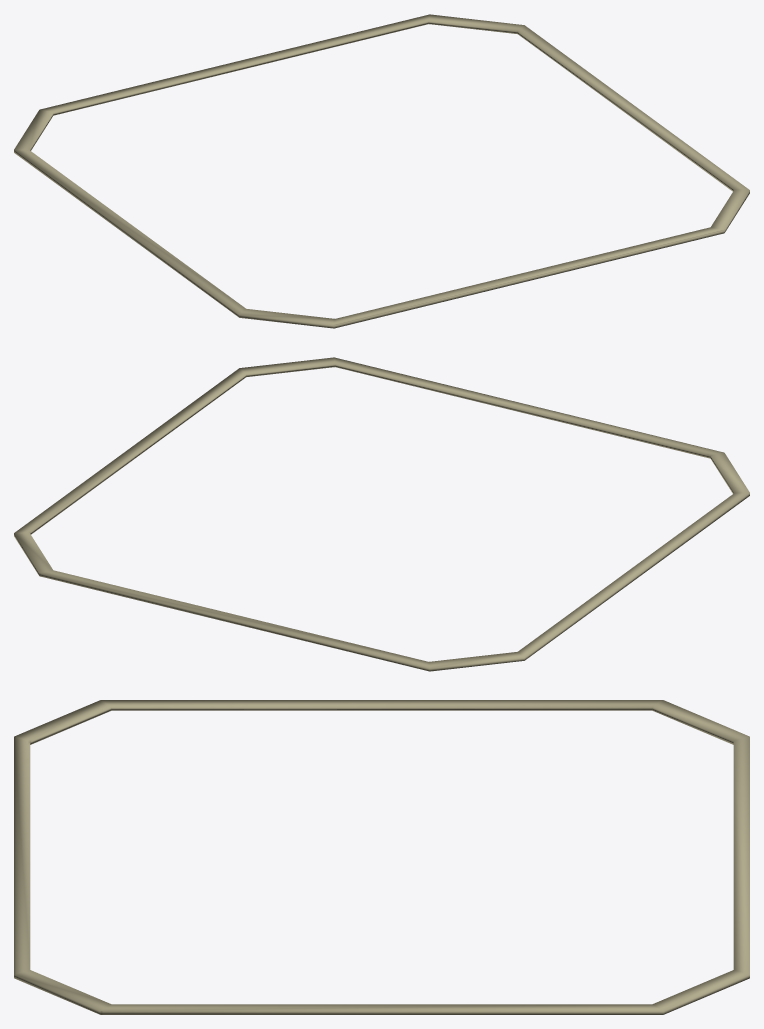
File: SM_BenchSlot.glb
The picture shows the model from 3 angles, top to bottom: view 1: azimuth 30°, elevation 25°; view 2: azimuth 150°, elevation 25°; view 3: azimuth 270°, elevation 25°; orthographic projection. The views are drawn at different scales.
Parts seen in each view (by area): view 1: BenchSlot; view 2: BenchSlot; view 3: BenchSlot.
Boxes of the visible parts, box(x1,y1,x2,y2) form: BenchSlot: box(14, 14, 749, 328); BenchSlot: box(14, 357, 749, 671); BenchSlot: box(14, 700, 749, 1014).
Bounding box in the file's own units: 0.68 × 0.004 × 0.68.
1 material, 1 textured.
